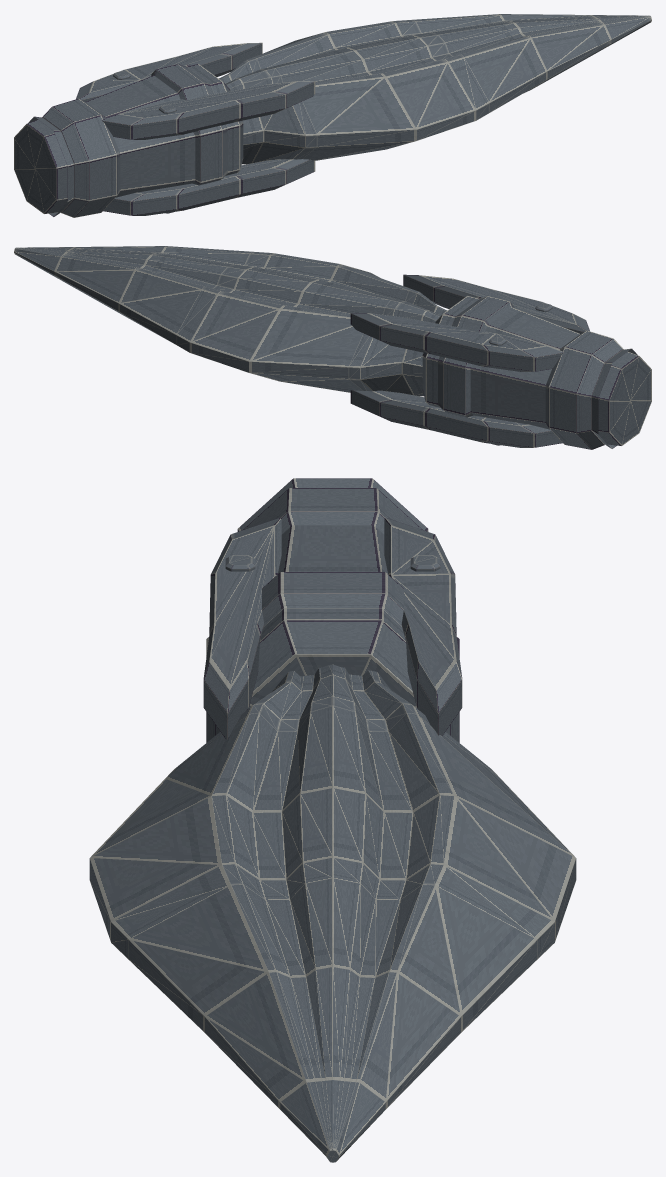
File: bench_xuantie_spear_3.obj
3 renders of one model, top to bottom at view 1: azimuth 30°, elevation 25°; view 2: azimuth 150°, elevation 25°; view 3: azimuth 270°, elevation 25°, orthographic. The views are drawn at different scales.
Visible parts, largest first — view 1: geometry; view 2: geometry; view 3: geometry.
Part boxes in pixels (left/top/right/bottom): geometry: left=14, top=14, right=651, bottom=217; geometry: left=14, top=246, right=651, bottom=449; geometry: left=89, top=478, right=576, bottom=1162.
Bounding box in the file's own units: 0.75 × 0.1336 × 0.2568.
